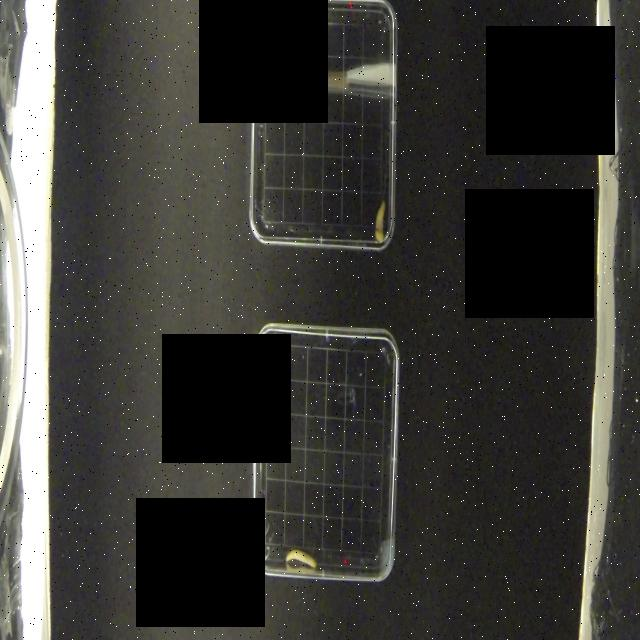larva: (284, 546, 318, 569), (374, 199, 388, 244)
